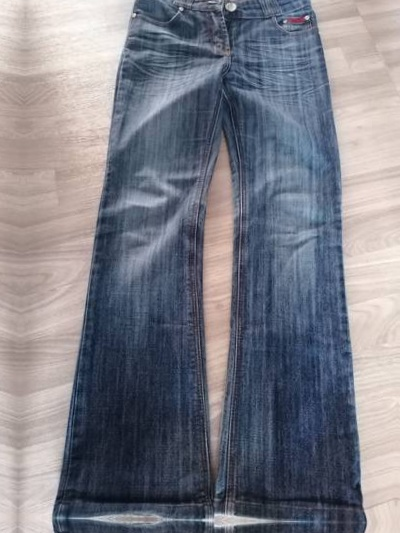Pants: (41, 0, 359, 522), (33, 519, 351, 533), (0, 0, 2, 516)
